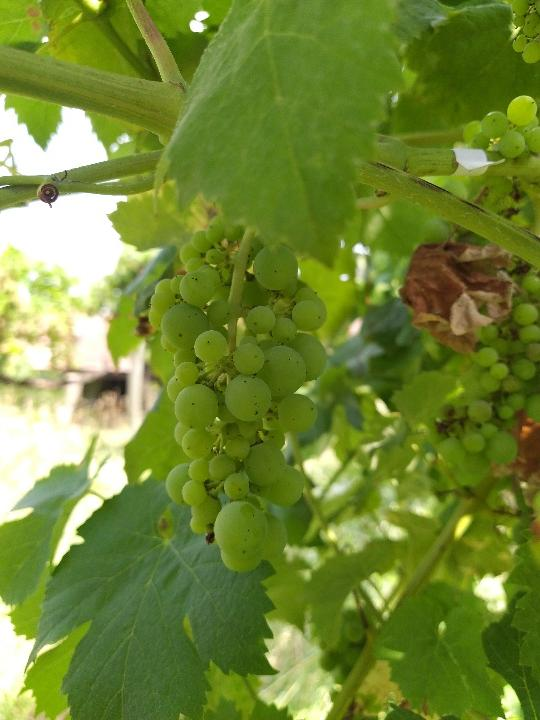grape: (146, 214, 328, 576)
